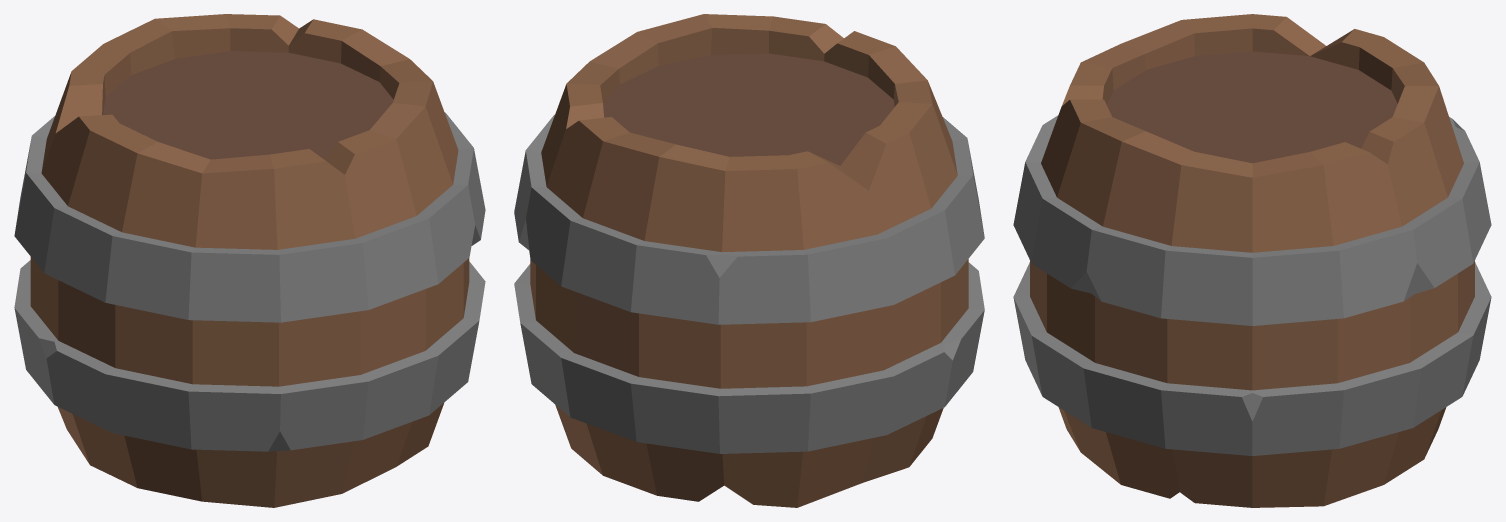
The model's file is barrel1.fbx.
The picture shows the model from 3 angles, left to right: view 1: azimuth 30°, elevation 25°; view 2: azimuth 150°, elevation 25°; view 3: azimuth 270°, elevation 25°; orthographic projection.
Parts seen in each view (by area): view 1: Cylinder; view 2: Cylinder; view 3: Cylinder.
Part boxes in pixels (x1,y1,x2,y2): Cylinder: (14, 14, 485, 507); Cylinder: (514, 14, 984, 507); Cylinder: (1013, 14, 1491, 507).
Bounding box in the file's own units: 257 × 206 × 257.
